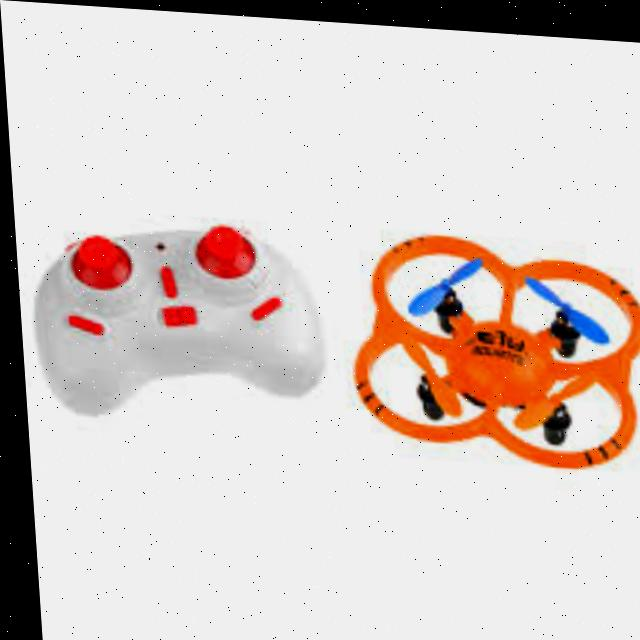drone: (312, 191, 640, 488)
